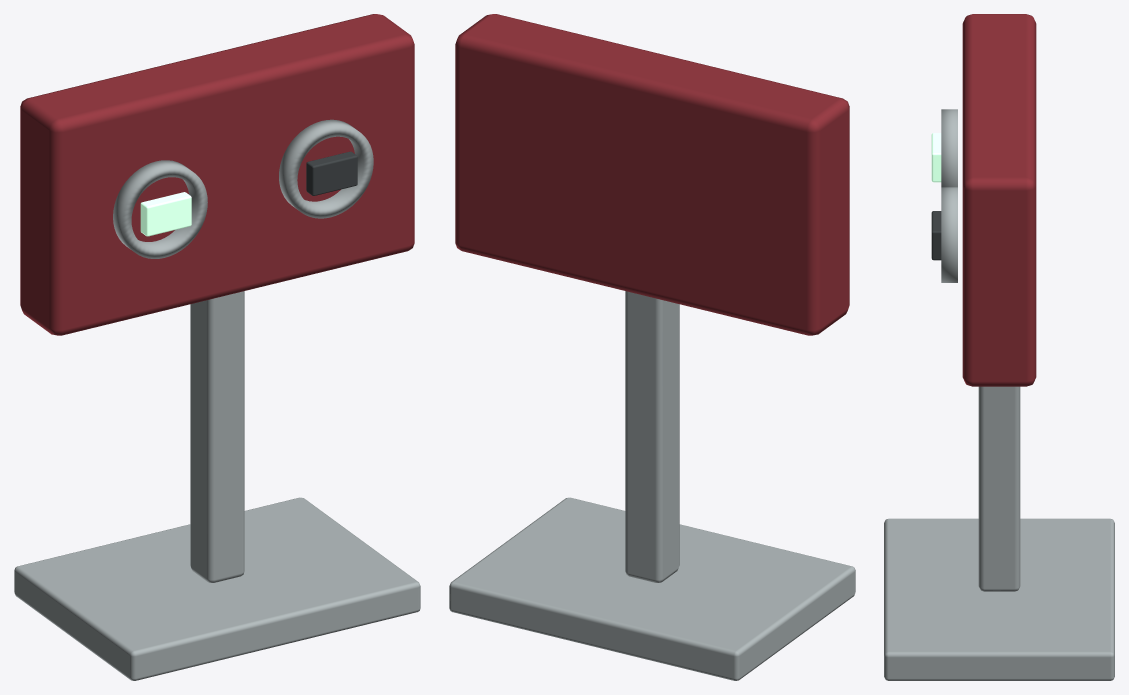
File: pneumatic-tube-mail-exchange-pneumatic-tube-mail-excha-c3b5f965__32301.glb
3 renders of one model, left to right at view 1: azimuth 30°, elevation 25°; view 2: azimuth 150°, elevation 25°; view 3: azimuth 270°, elevation 25°, orthographic. The views are drawn at different scales.
Visible parts, largest first — view 1: pneumatic-tube-mail-exchange-branch-routing-indicator; view 2: pneumatic-tube-mail-exchange-branch-routing-indicator; view 3: pneumatic-tube-mail-exchange-branch-routing-indicator.
Part boxes in pixels (<box>): pneumatic-tube-mail-exchange-branch-routing-indicator: <box>14,14,420,680</box>; pneumatic-tube-mail-exchange-branch-routing-indicator: <box>449,14,855,680</box>; pneumatic-tube-mail-exchange-branch-routing-indicator: <box>884,14,1114,680</box>.
Size of the model in its own units: 0.44 by 0.62 by 0.25.
